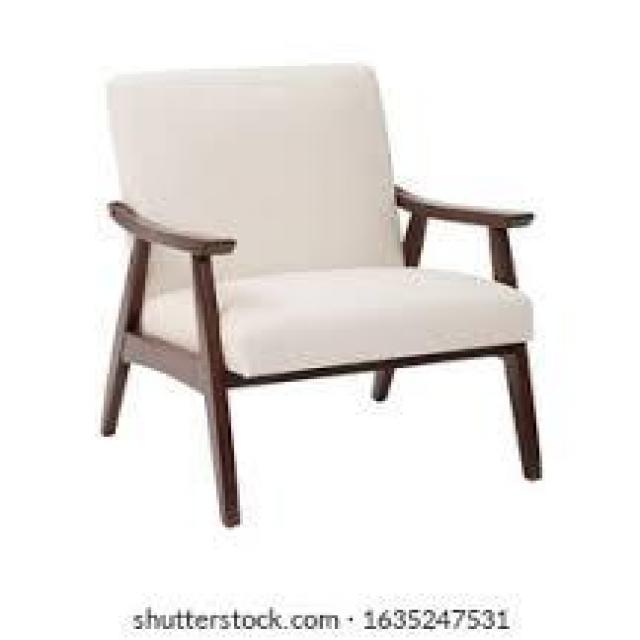chair: (72, 36, 568, 541)
